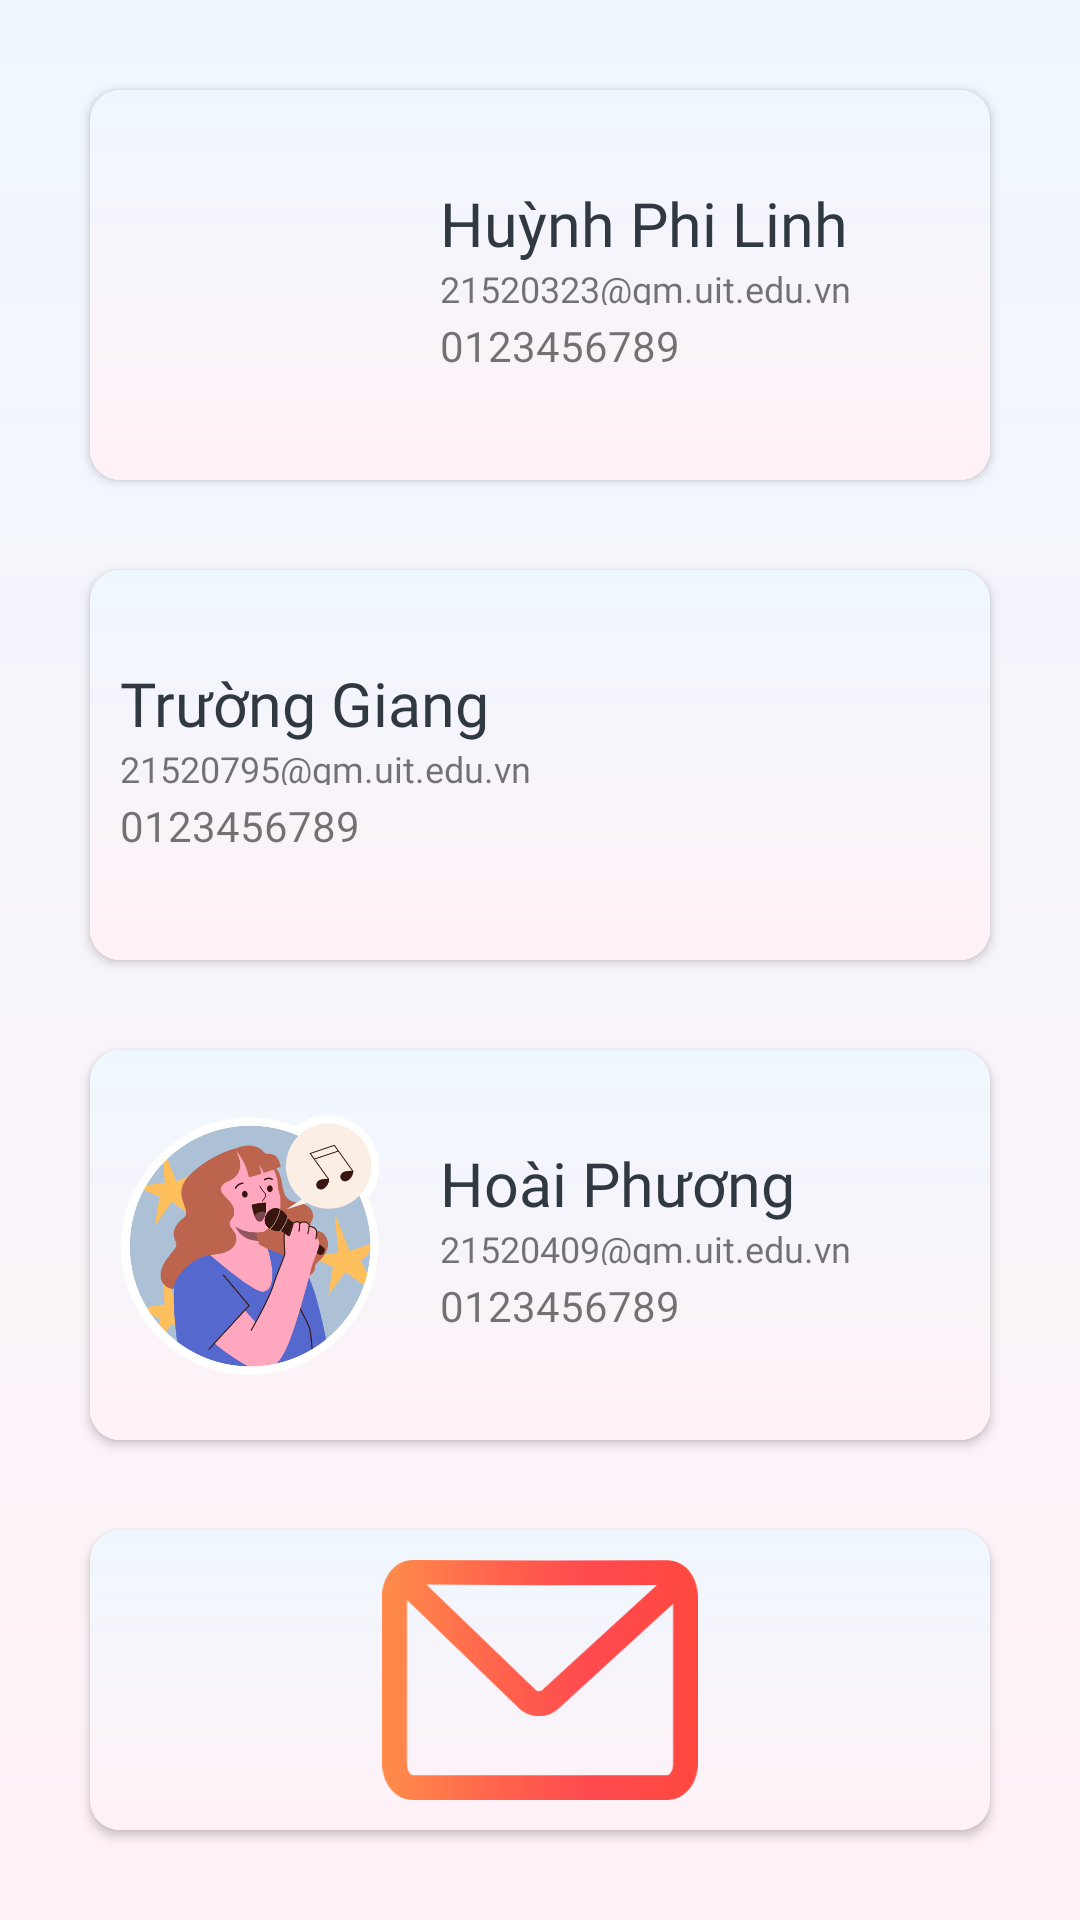

Icon click points for this 1080 × 1920 phone screenshot, format (x,y):
contact women: (250,1246)
mail: (540,1680)
